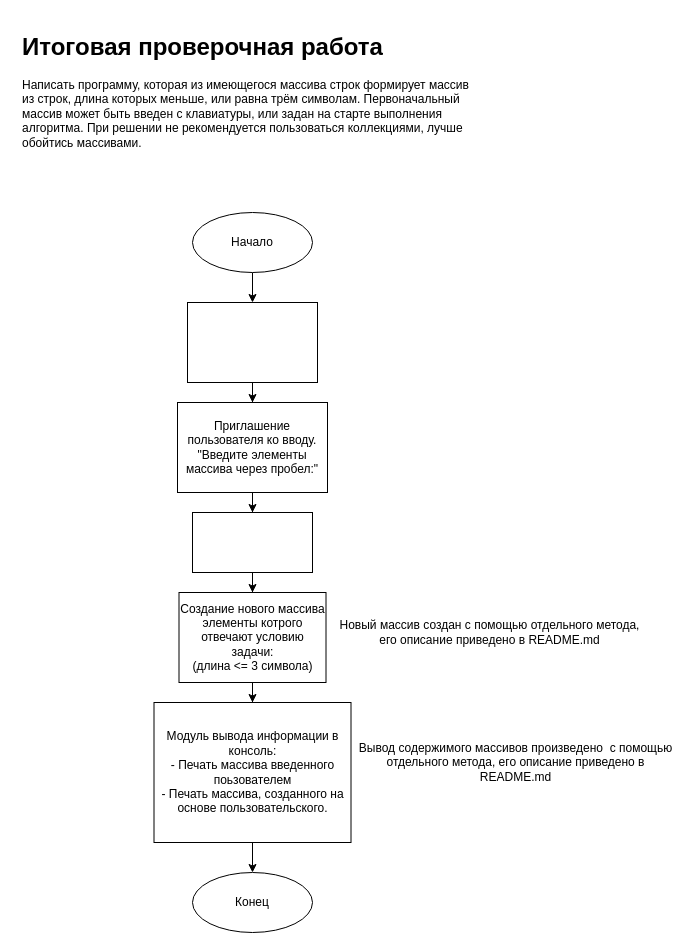
Some shapes in this 691 by 950 pixel diagram are drawn without their labels. Here are the shapes that lost their labels. From the top down, the centre of each, then its label:
At (x=252, y=342): "Очистка консоли для комфортного отображения модулей ввода и вывода информации".
At (x=252, y=542): "Сохранение введённых данных в массив строк.".
